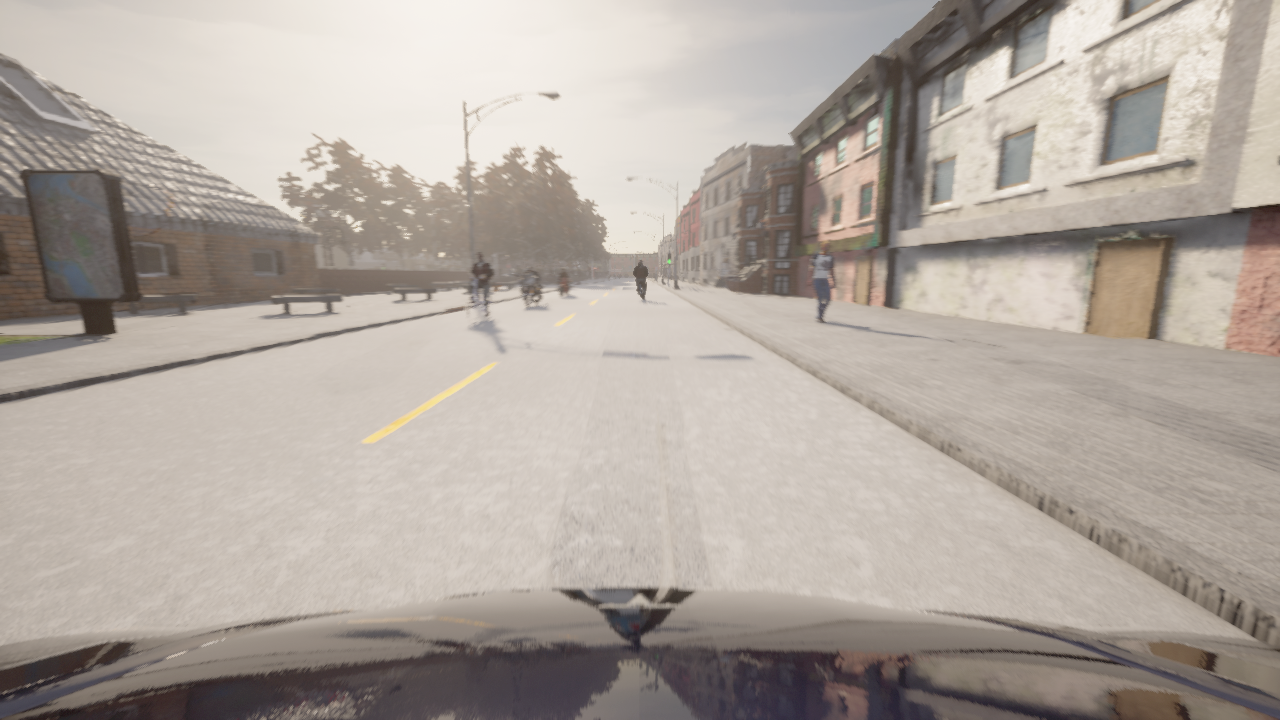cyclist: (0, 588, 1279, 719), (468, 277, 491, 324), (516, 273, 542, 307), (554, 275, 568, 296), (552, 277, 571, 284), (638, 283, 644, 297)
pedestrian: (808, 241, 835, 323)
